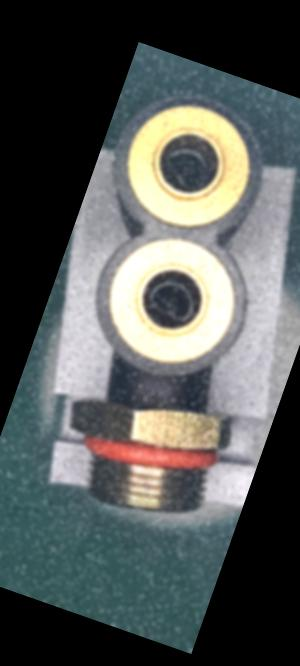off-centered: (152, 136, 217, 200), (134, 268, 201, 329)
